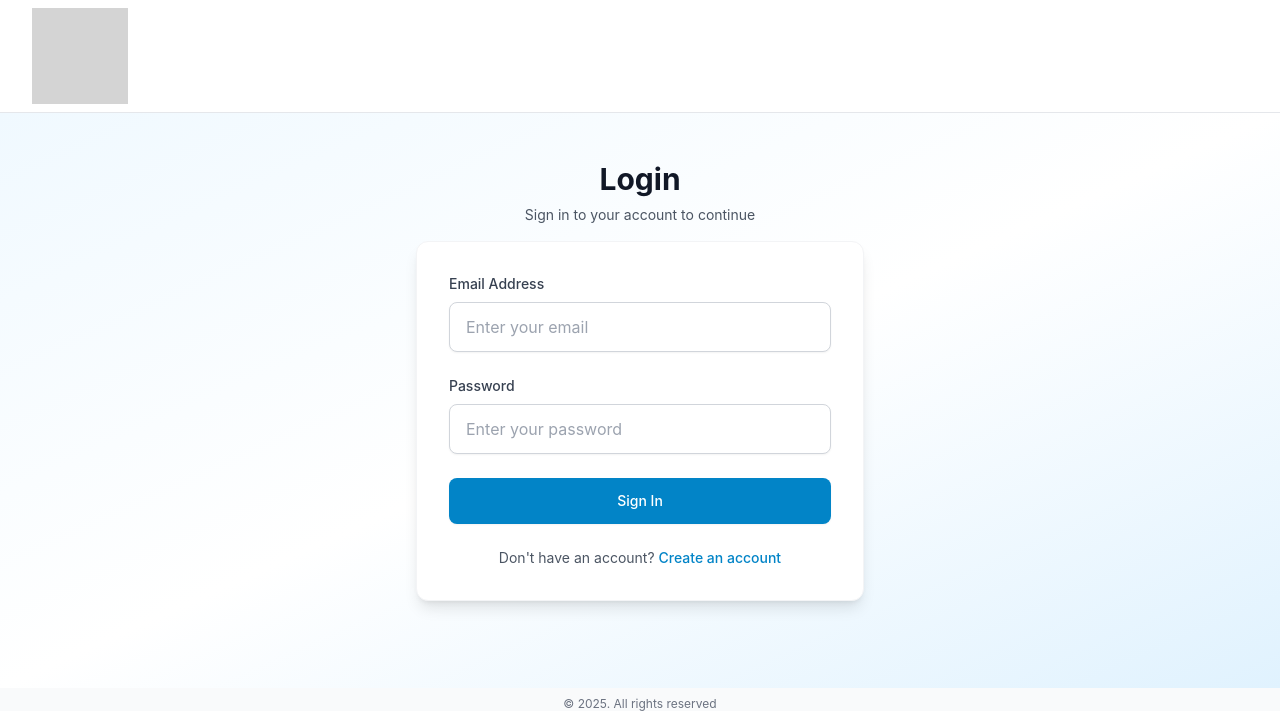
Authentication Flows › Login Page › should navigate to register page
Step 1. Click the link to "/register" → (721, 558), box 659,549 -> 782,566
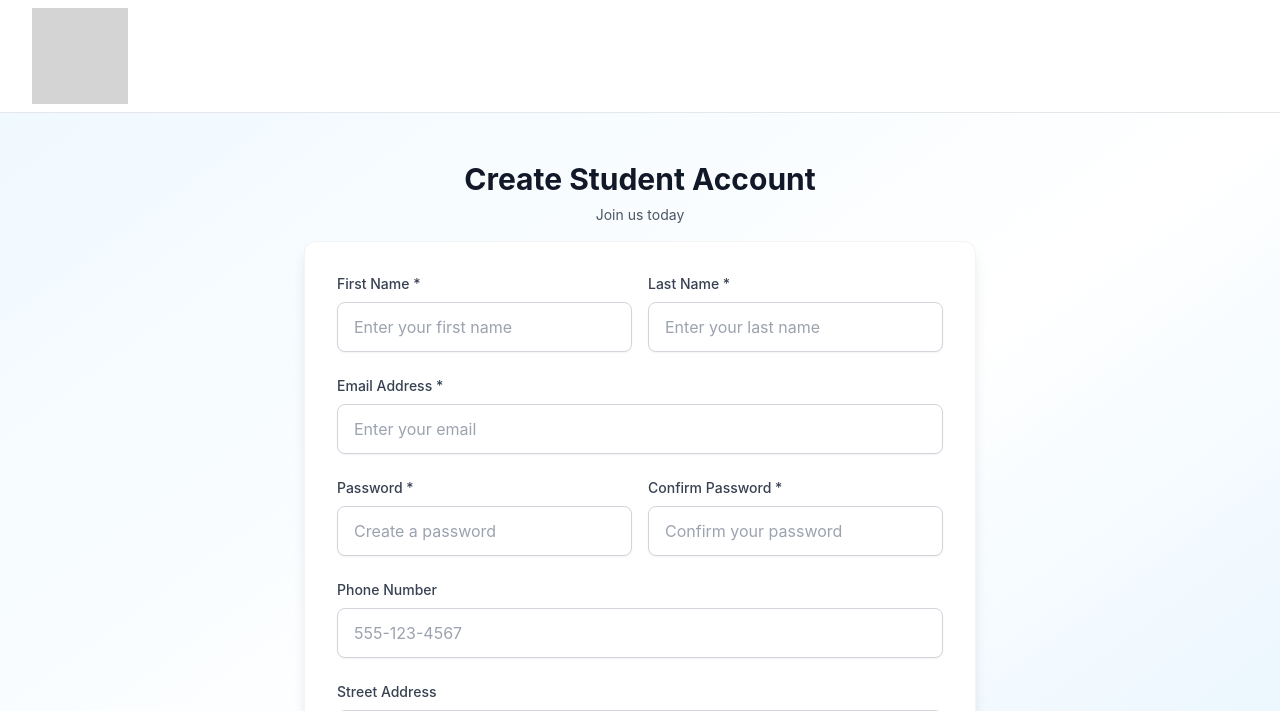
Expected: the heading "Create Student Account" is shown, 464,161 -> 816,197
